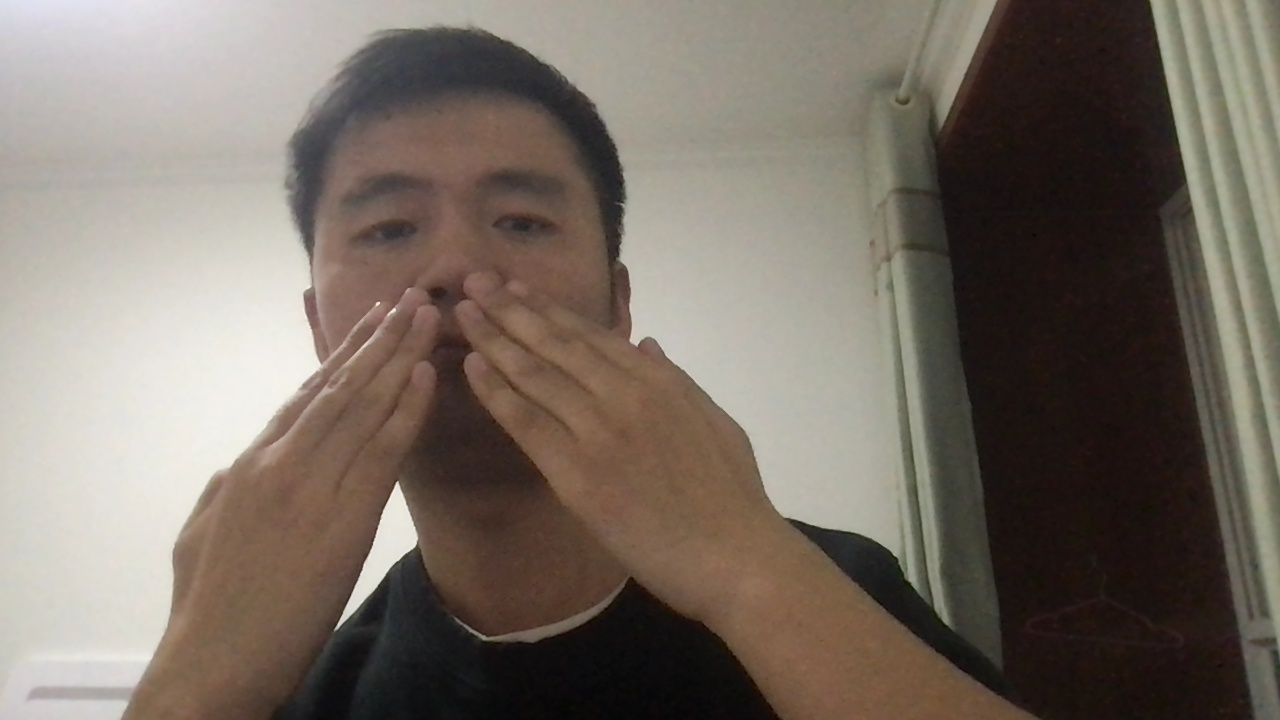thanks: (145, 272, 855, 618)
